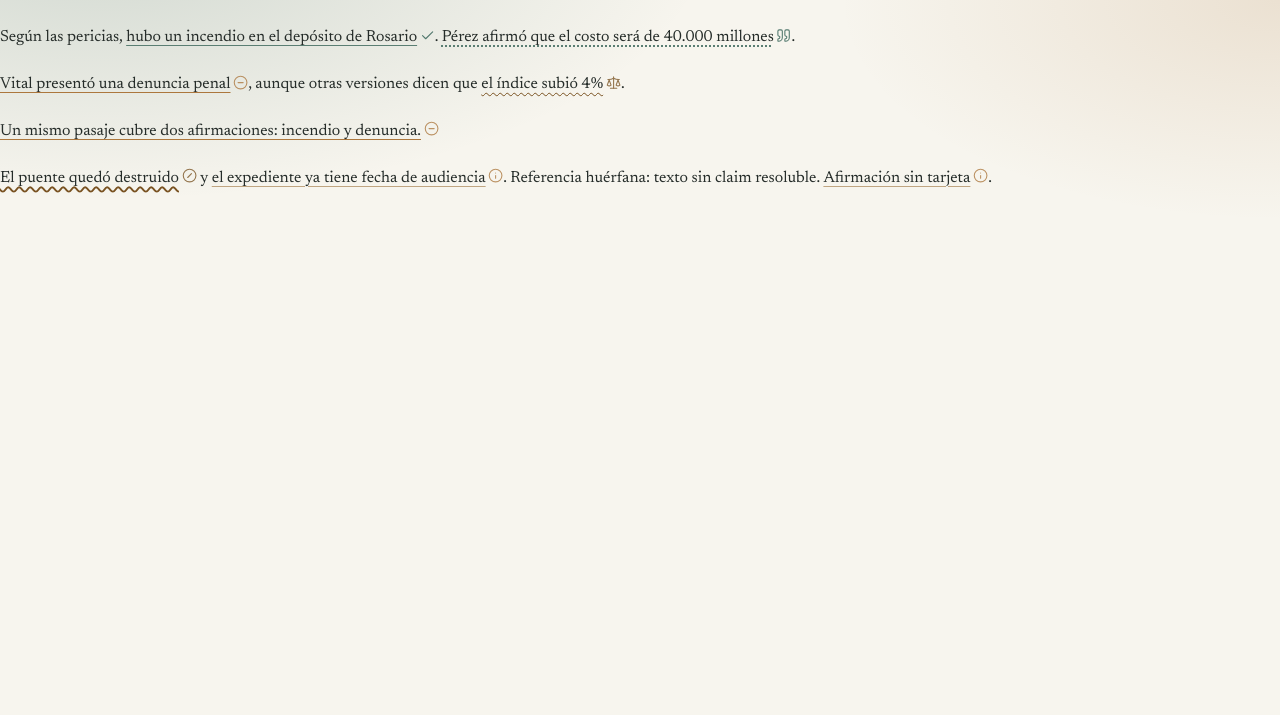
several claims in one fragment keep separate copy
What coordinates should you click on to do the following:
click the button "Un mismo pasaje cubre dos afirmaciones: incendio y denuncia."
I would click on:
 (219, 131)
Its box is [0,118,439,145].
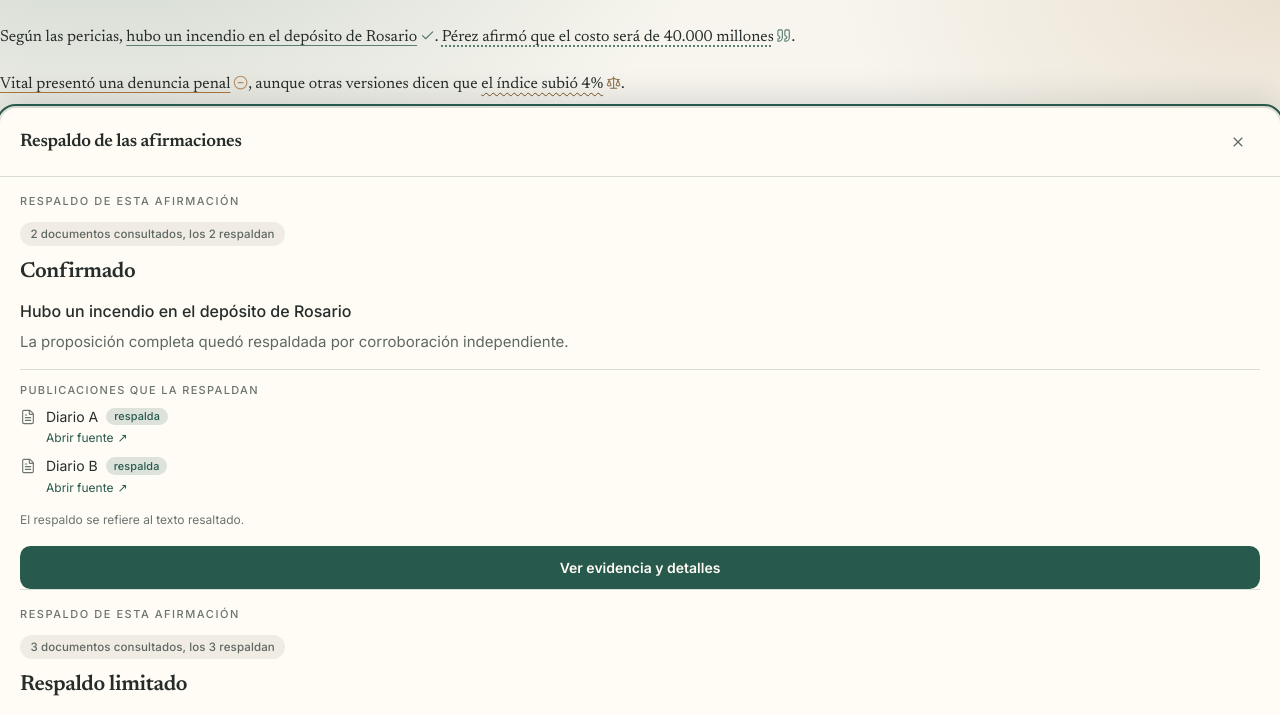
Expected: the text "Confirmado" is shown, [20,261,135,283]
Expected: the text "Respaldo limitado" is shown, [20,674,187,696]
Expected: the text "Respaldo de las afirmaciones" is shown, [20,128,242,156]
